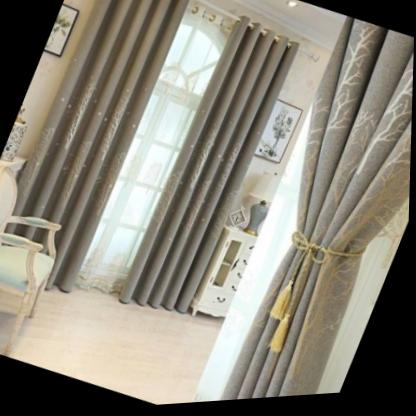Curtains: (122, 24, 299, 318), (17, 0, 191, 295)
